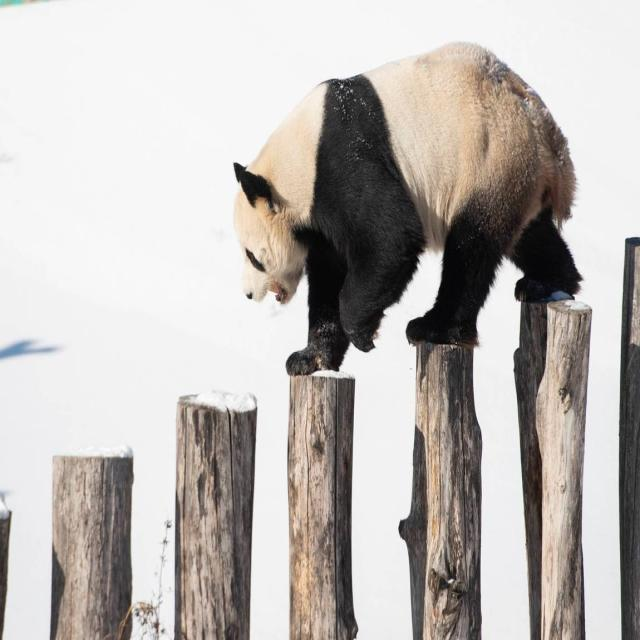panda: (227, 36, 586, 379)
